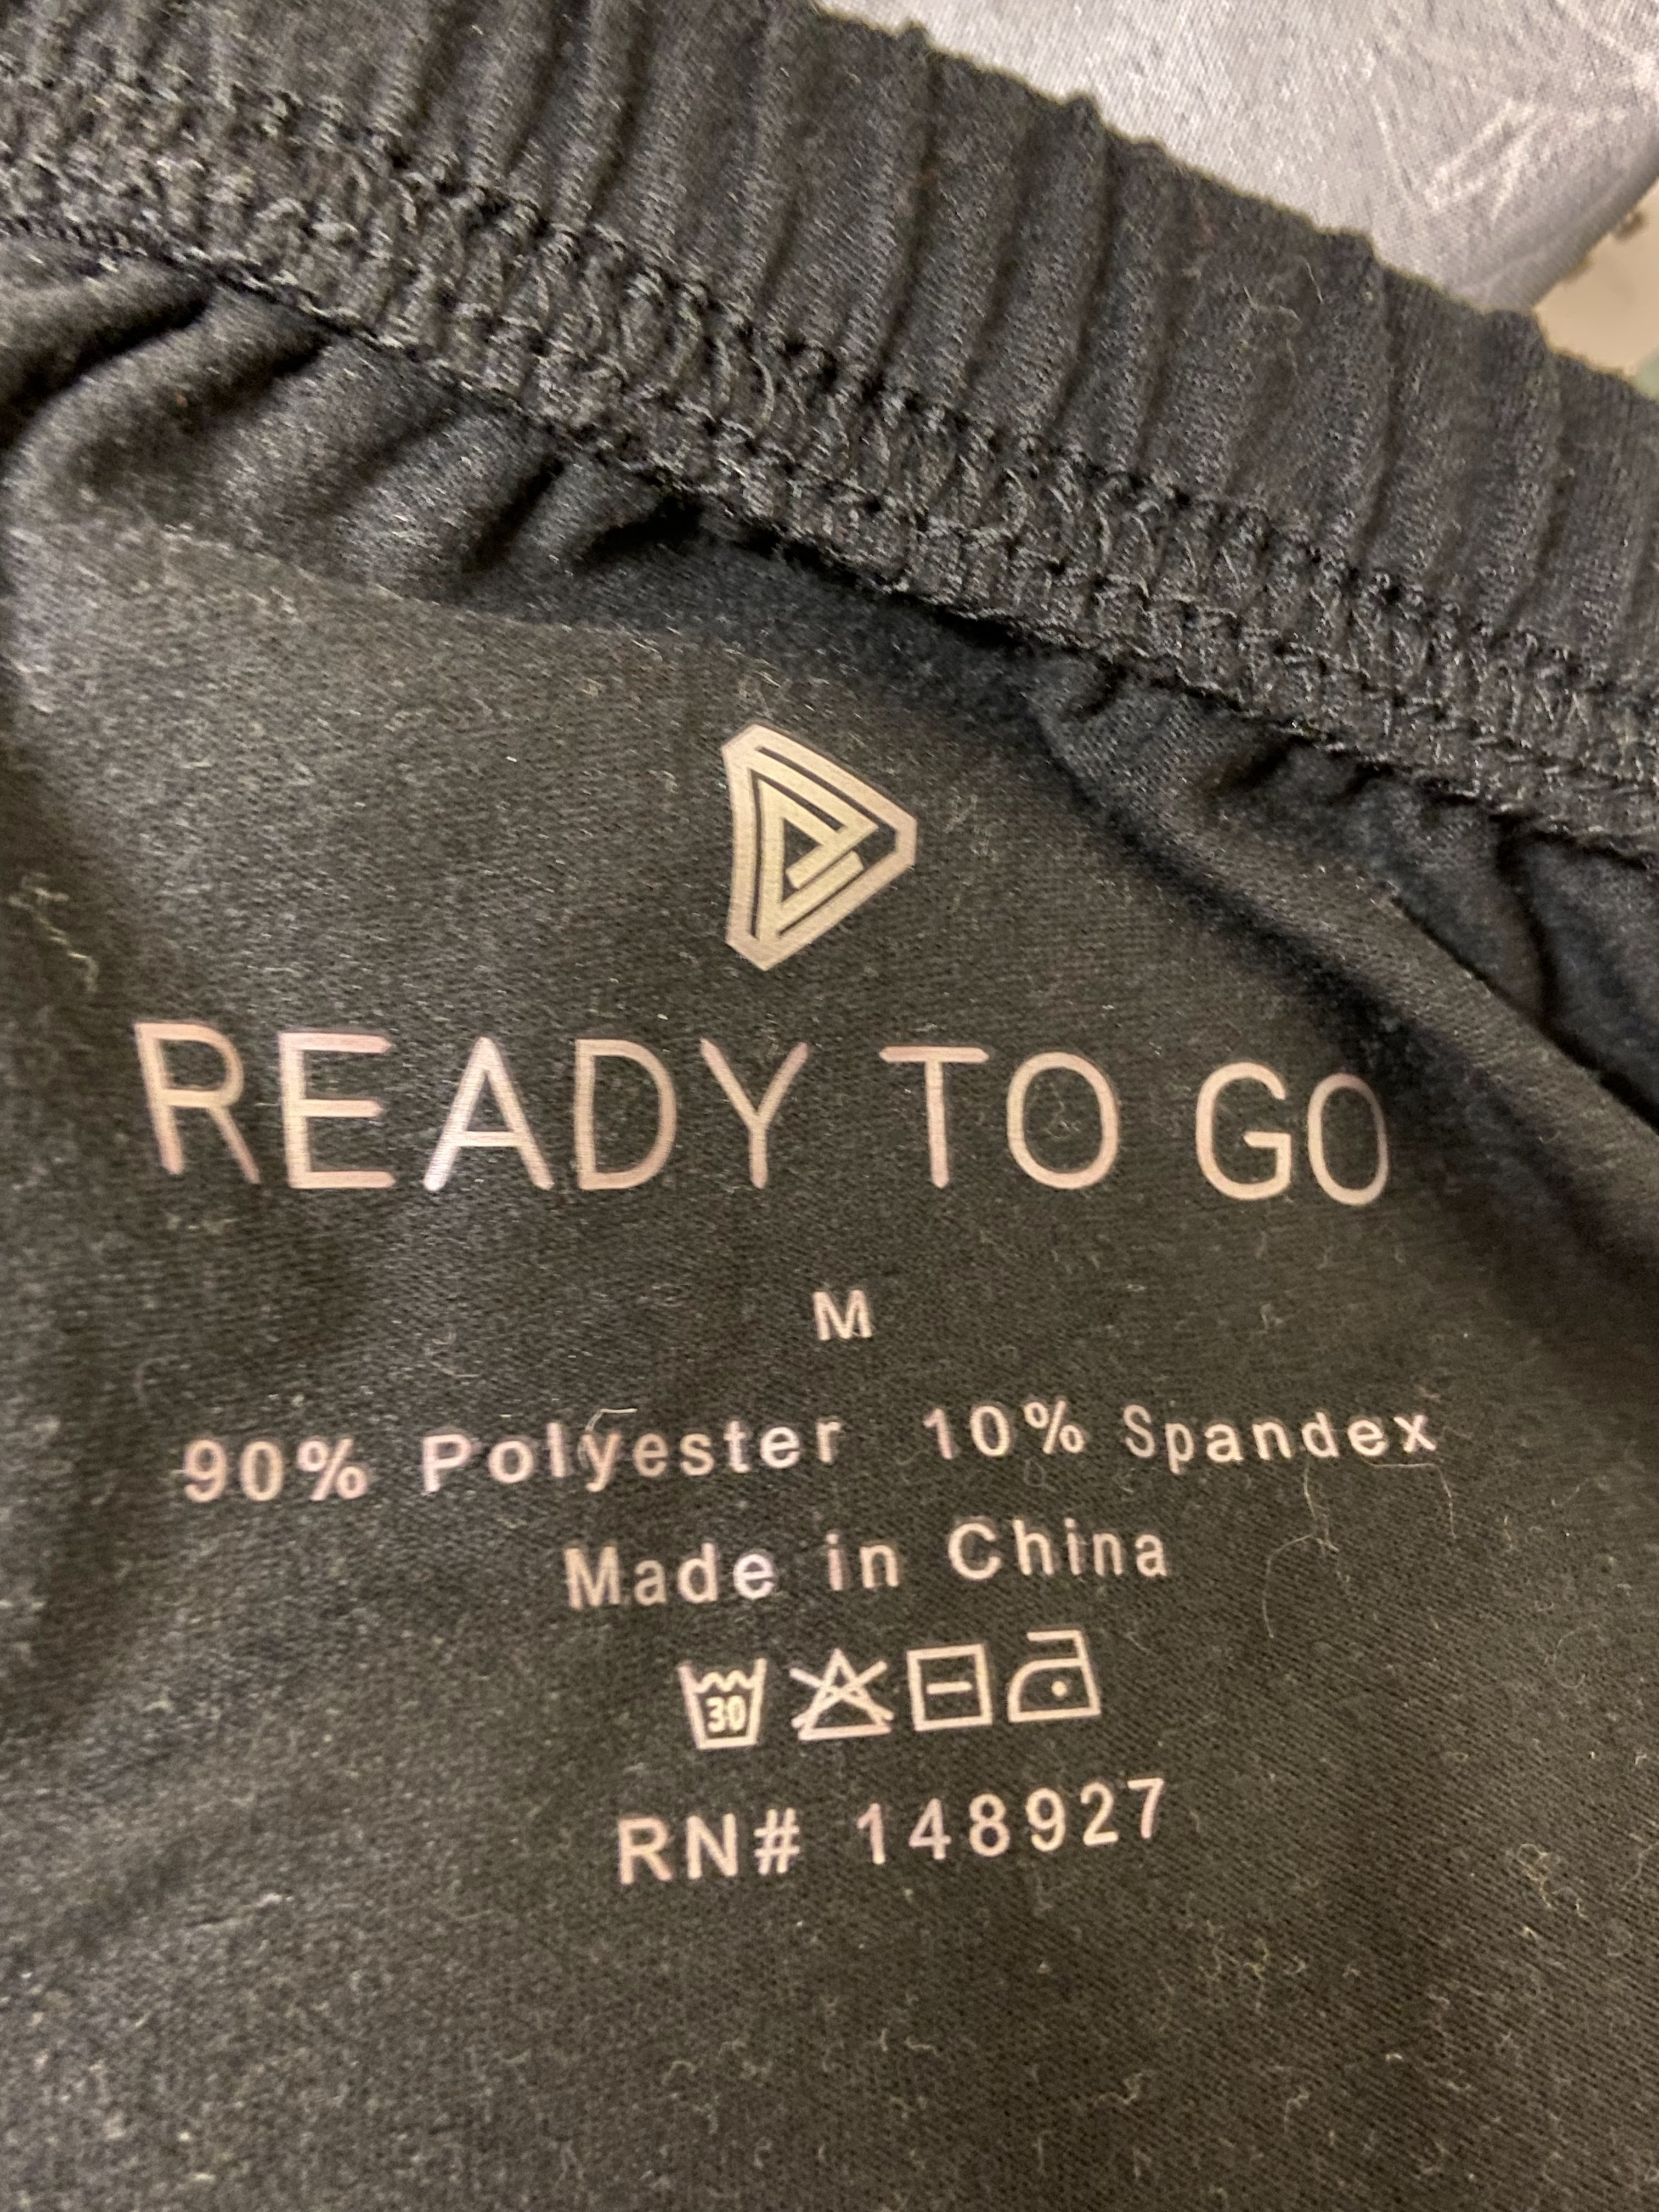do not bleach: (788, 1644, 903, 1777)
dry flat: (887, 1642, 1000, 1735)
iron low temp: (999, 1629, 1124, 1730)
wash at or below 30: (640, 1658, 784, 1770)
